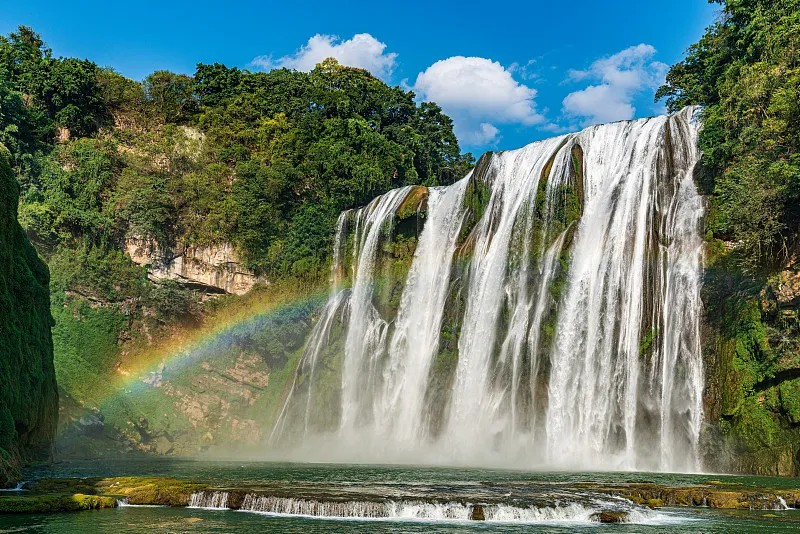Huangguoshu: (275, 106, 706, 472)
